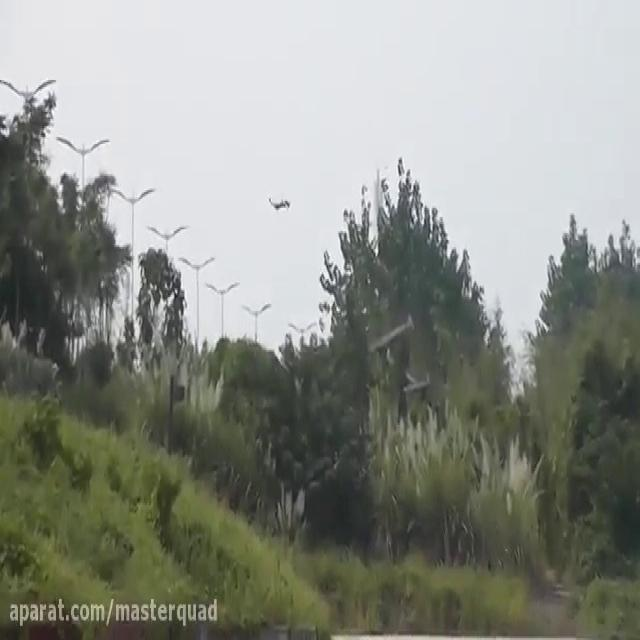drone: (265, 190, 293, 217)
